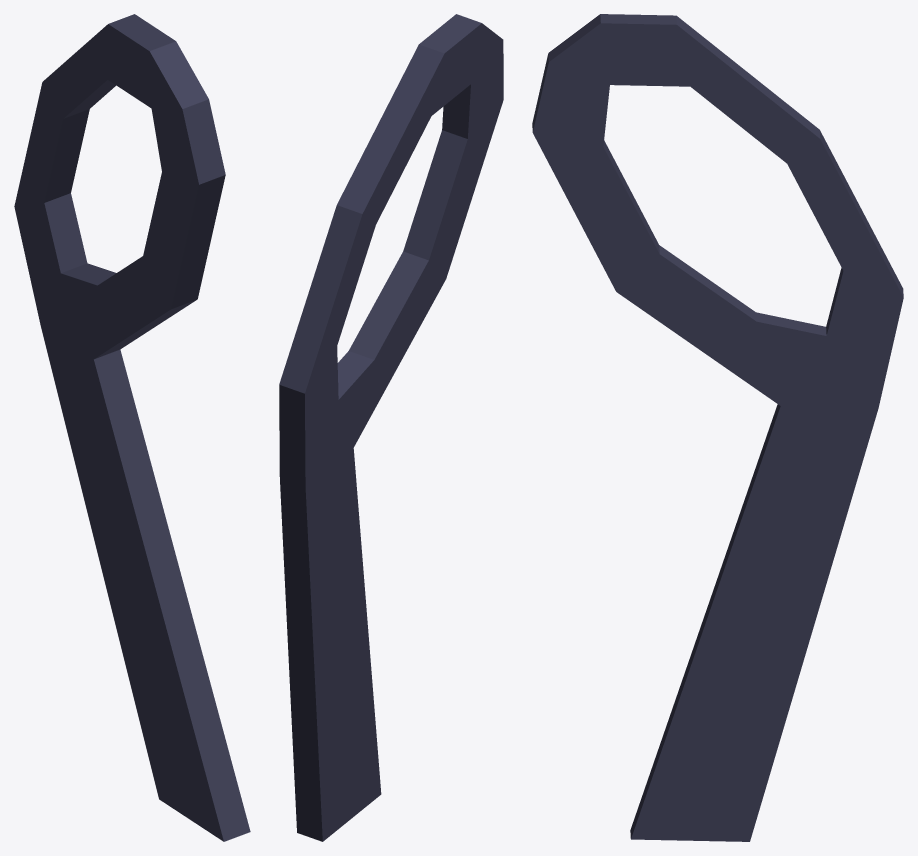
Rendered from Buttler_v2.glb.
3 views of the same model, side by side, from view 1: azimuth 30°, elevation 25°; view 2: azimuth 150°, elevation 25°; view 3: azimuth 270°, elevation 25° (orthographic). The views are drawn at different scales.
Parts seen in each view (by area): view 1: Bow; view 2: Bow; view 3: Bow.
Boxes of the visible parts, left/top/right/bottom form: Bow: left=14, top=14, right=250, bottom=841; Bow: left=279, top=14, right=503, bottom=841; Bow: left=532, top=14, right=903, bottom=841.
Size of the model in its own units: 0.131 by 0.8803 by 0.3795.
